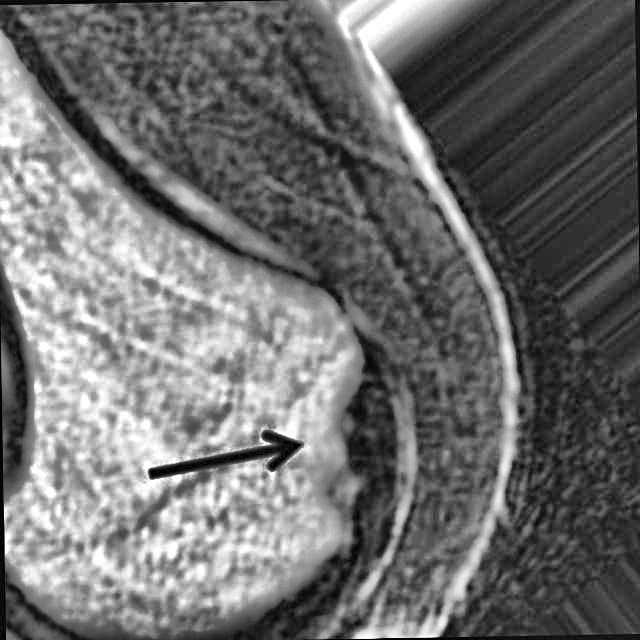Comminuted: (306, 339, 414, 557)
